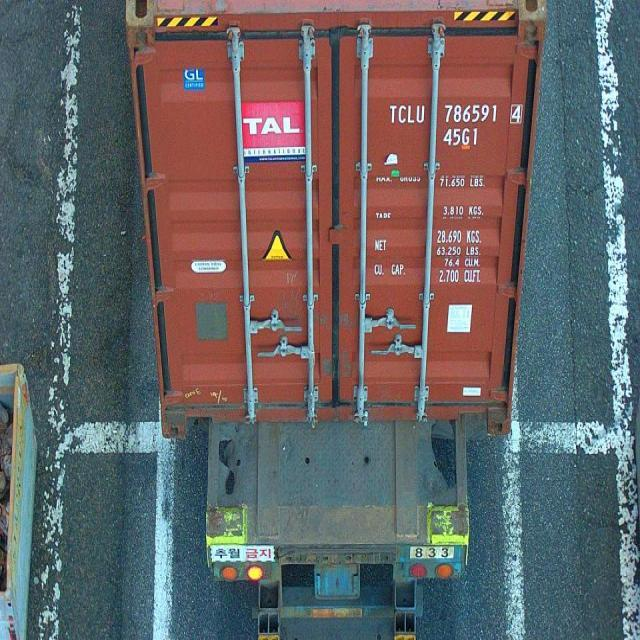ISO: (444, 128, 482, 148)
container_number: (390, 102, 520, 126)
